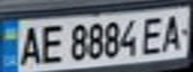4: (118, 16, 142, 58)
8: (66, 20, 90, 62), (84, 19, 106, 61), (103, 18, 124, 60)
A: (157, 10, 190, 53), (15, 22, 45, 68)
E: (139, 12, 169, 56), (36, 21, 66, 65)
